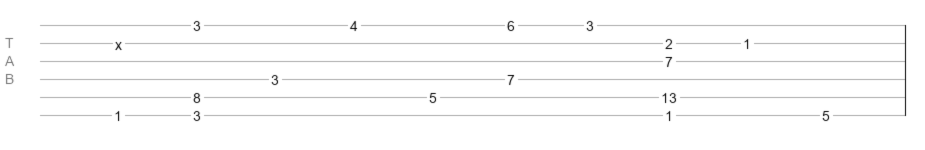1: (114, 108, 122, 118), (665, 108, 673, 118), (743, 36, 751, 46)
13: (661, 90, 677, 100)
2: (665, 36, 673, 46)
3: (193, 108, 201, 118), (193, 18, 201, 28), (271, 72, 279, 82), (586, 18, 594, 28)
4: (350, 18, 358, 28)
5: (429, 90, 437, 100), (822, 108, 830, 118)
6: (507, 18, 515, 28)
7: (507, 72, 515, 82), (665, 54, 673, 64)
8: (193, 90, 201, 100)
x: (115, 37, 122, 45)
